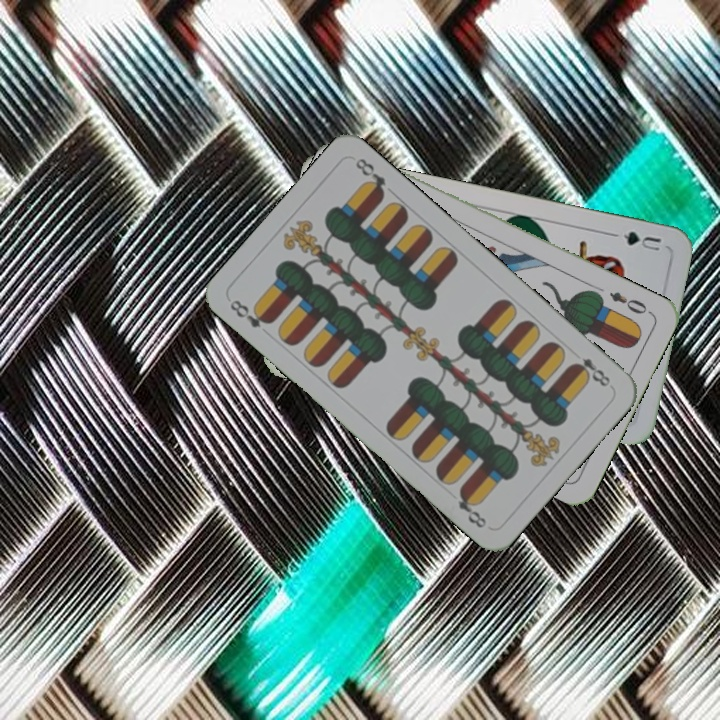E8: (225, 295, 276, 331), (567, 353, 613, 390)
EO: (605, 287, 654, 317)
GU: (619, 227, 663, 254)
